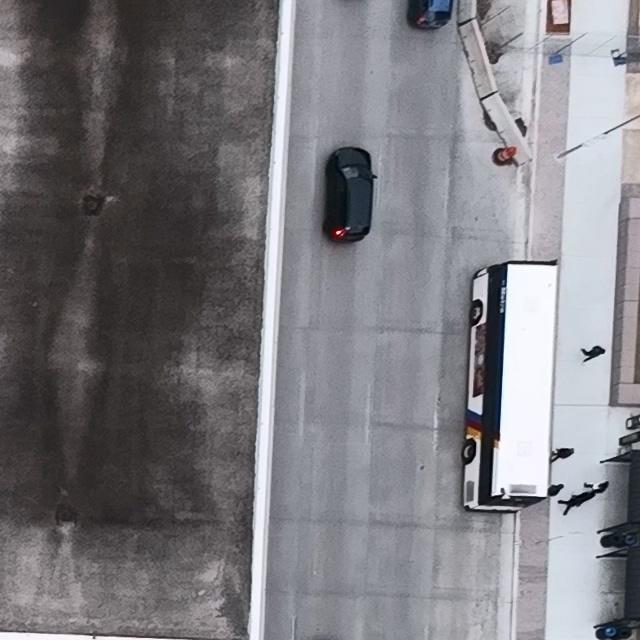car: (459, 259, 557, 515), (323, 146, 378, 245), (407, 0, 454, 30)
